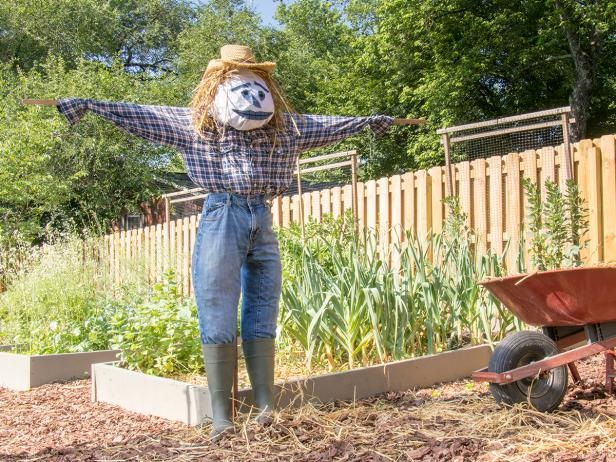person-like: (19, 39, 433, 444)
